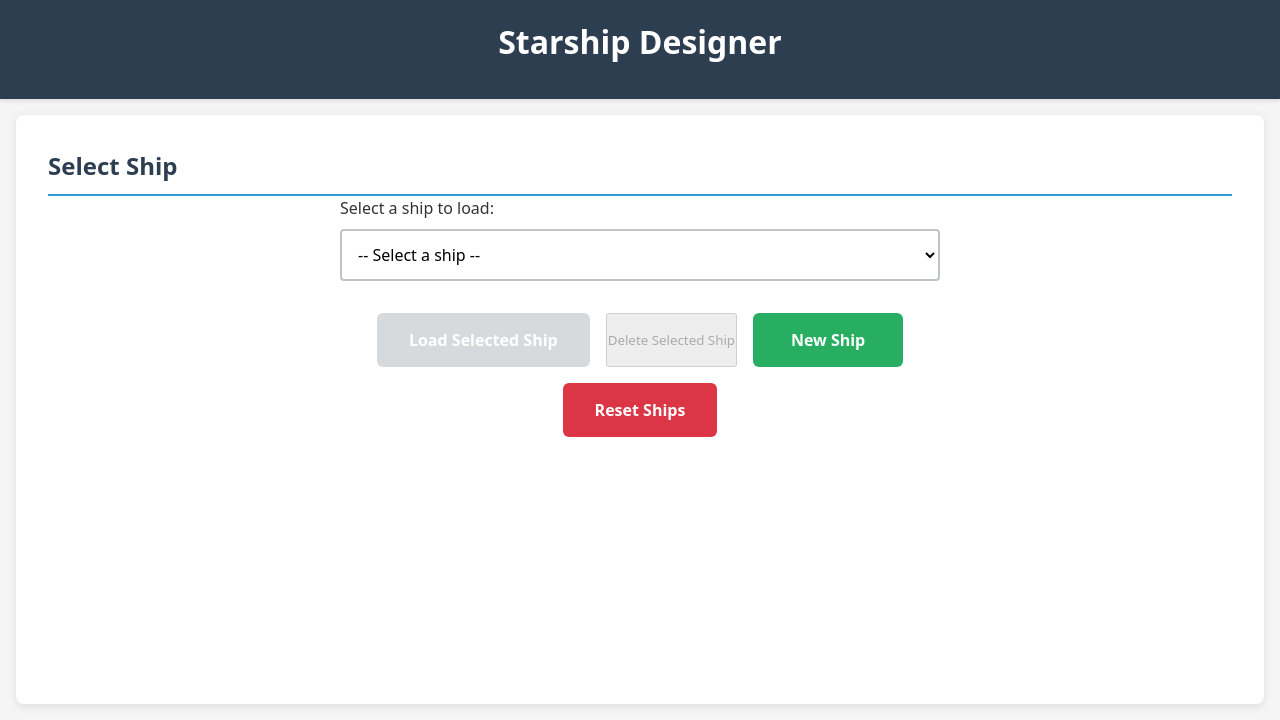
it: App › Next button is disabled on panel 0 when ship name is empty
The width and height of the screenshot is (1280, 720).
Click the button "New Ship". click: (828, 340)
box: [753, 313, 903, 367]
(page scrolled)
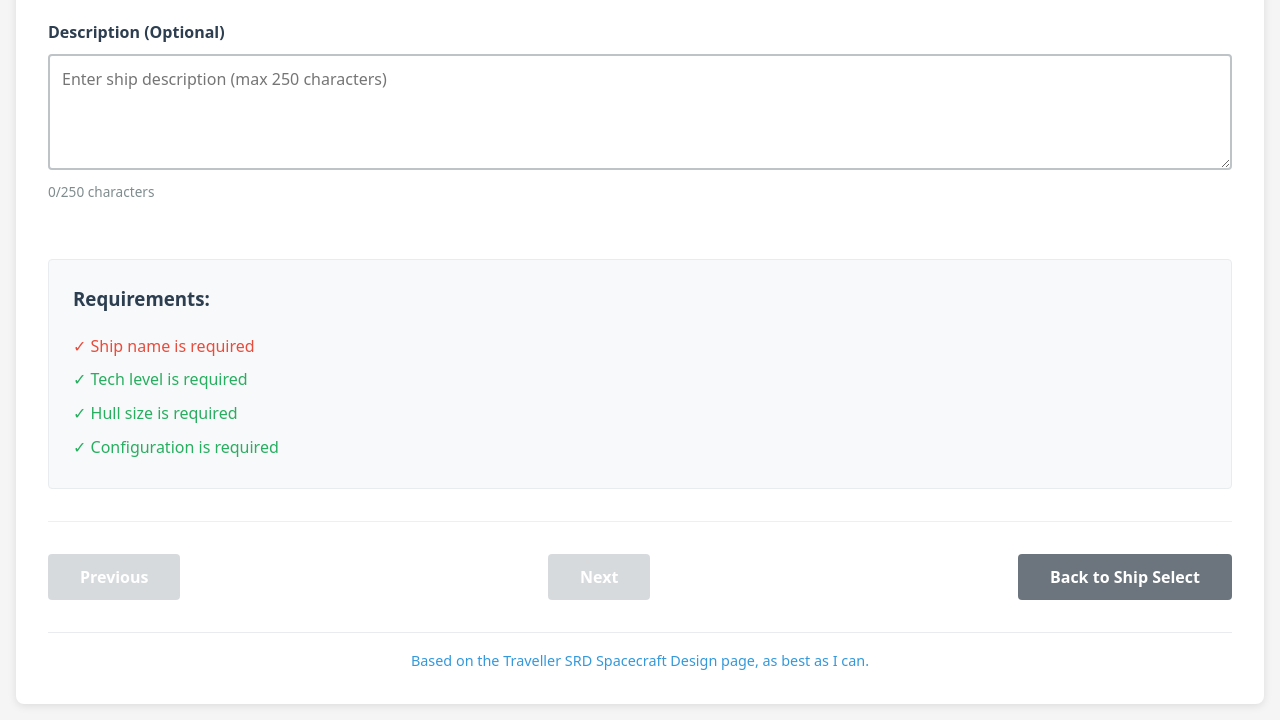
Check: the button "Next" is disabled, box [548, 554, 650, 600]
